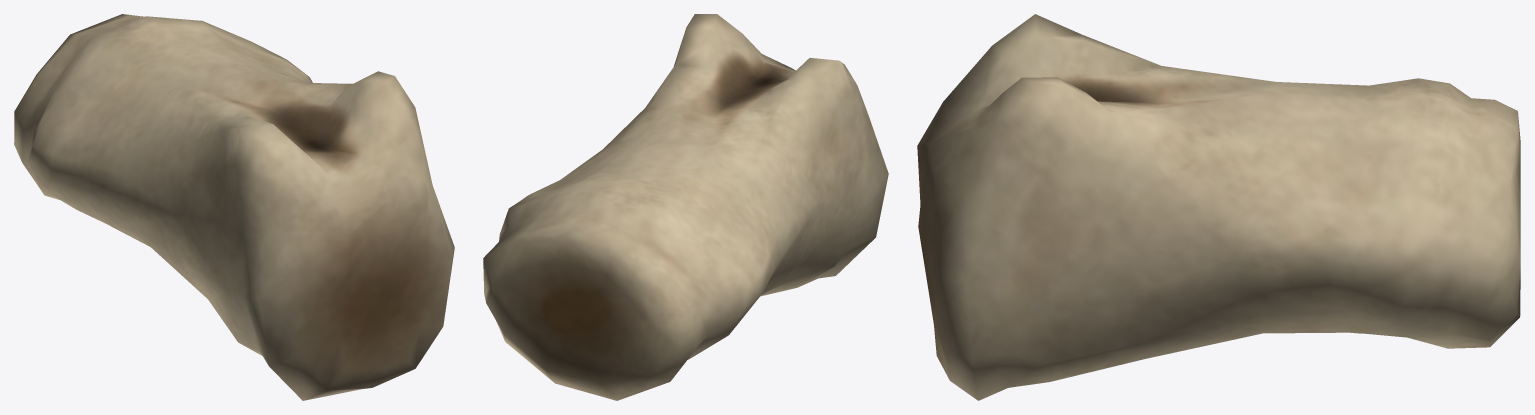
The model's file is Caudal_Vertebrae6.glb.
3 renders of one model, left to right at view 1: azimuth 30°, elevation 25°; view 2: azimuth 150°, elevation 25°; view 3: azimuth 270°, elevation 25°, orthographic. The views are drawn at different scales.
Parts seen in each view (by area): view 1: Caudal_Vertebrae_25:Group17798; view 2: Caudal_Vertebrae_25:Group17798; view 3: Caudal_Vertebrae_25:Group17798.
Part boxes in pixels (<box>): Caudal_Vertebrae_25:Group17798: <box>14,14,454,400</box>; Caudal_Vertebrae_25:Group17798: <box>483,14,888,400</box>; Caudal_Vertebrae_25:Group17798: <box>917,14,1520,400</box>.
Size of the model in its own units: 10.38 by 10.46 by 17.5.
1 material, 1 textured.
